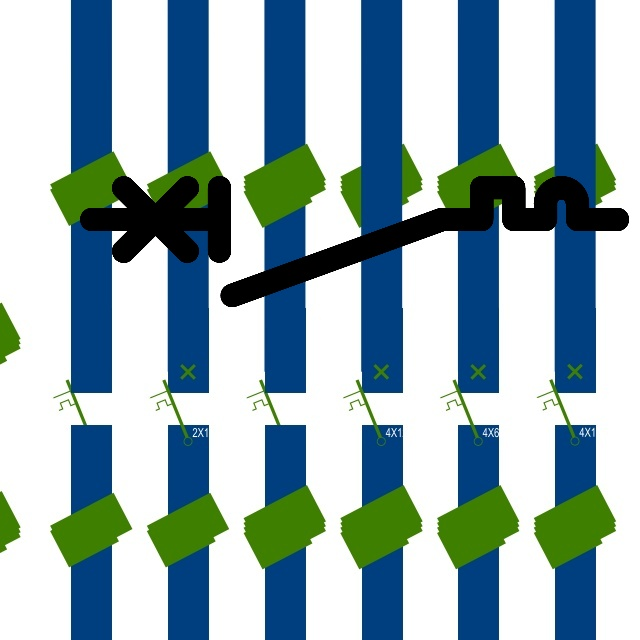interruptor_termomagnetico: (78, 174, 631, 309)
